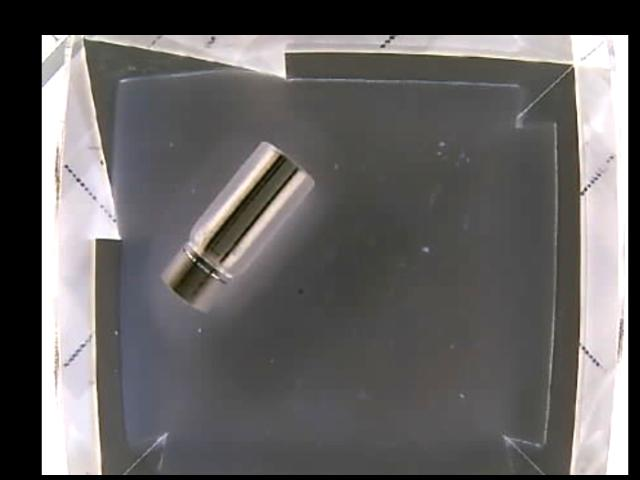Bottle: (161, 140, 313, 314)
